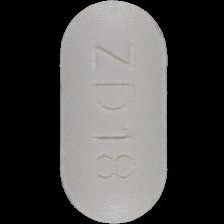63629-5032: (0, 0, 224, 224)
